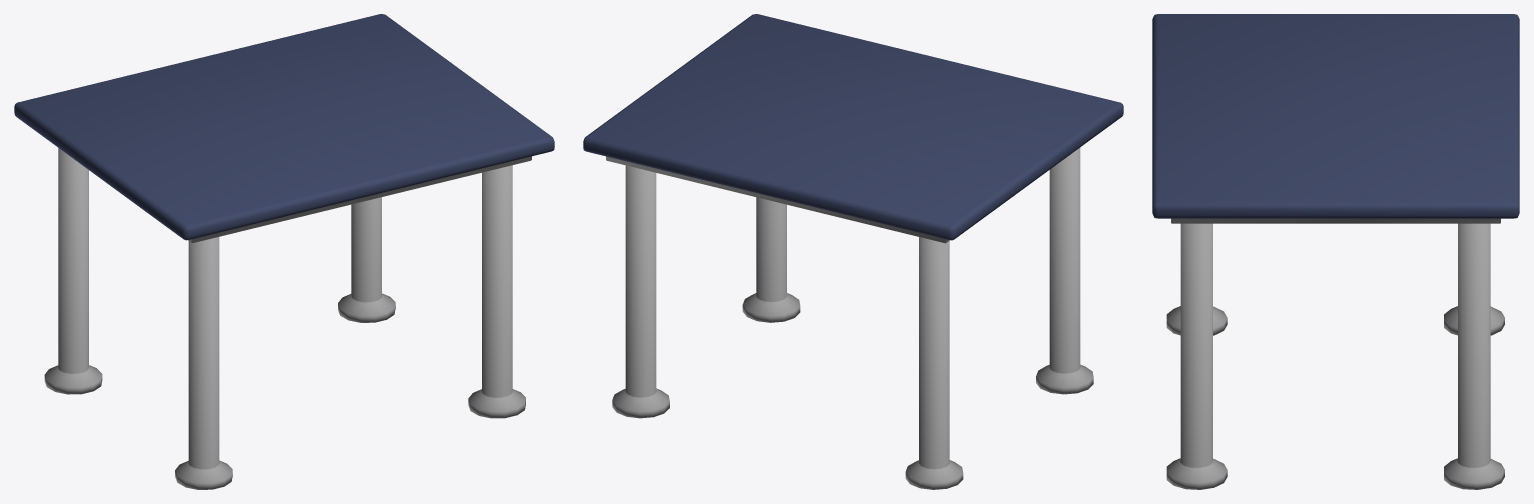
Rendered from DebrisTableSmall.fbx.
3 renders of one model, left to right at view 1: azimuth 30°, elevation 25°; view 2: azimuth 150°, elevation 25°; view 3: azimuth 270°, elevation 25°, orthographic. The views are drawn at different scales.
Parts seen in each view (by area): view 1: Circle; view 2: Circle; view 3: Circle.
Boxes of the visible parts, x1,y1,x2,y2 form: Circle: [14, 14, 554, 489]; Circle: [583, 14, 1123, 489]; Circle: [1152, 14, 1519, 489].
Bounding box in the file's own units: 267 × 189 × 215.
